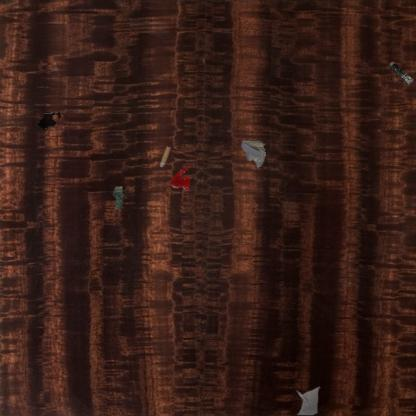dirty: (295, 386, 321, 415), (386, 61, 415, 86), (241, 140, 266, 168), (111, 184, 125, 210), (158, 145, 173, 168)
liquid: (169, 165, 191, 193), (36, 110, 62, 129)
